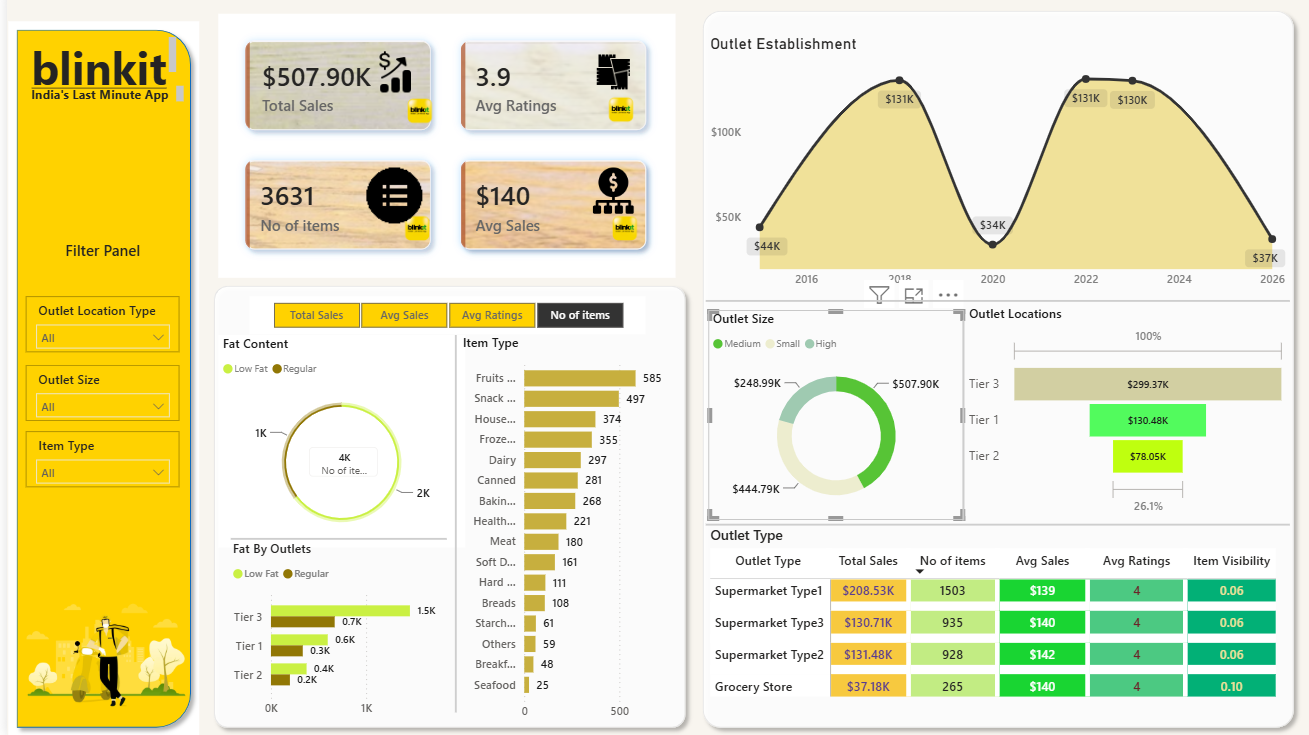

The page's visual inventory and layout, read from the dashboard file:
{"tool":"powerbi","page":{"name":"Page 1","canvas":[1400,800],"ordinal":0},"visuals":[{"type":"shape","box":[1.7,33.3,205,766.7],"z":0},{"type":"textbox","box":[21.7,45,165,65],"z":1000},{"type":"textbox","box":[21.7,98.3,173.3,30],"z":2000},{"type":"group","id":"g1","title":"Group 1","box":[226.7,25,490,283.3],"z":3000},{"type":"cardVisual","fields":{"Data":["BlinkIT Grocery Data.Total Sales","BlinkIT Grocery Data.Avg Ratings","BlinkIT Grocery Data.No of items","BlinkIT Grocery Data.Avg Sales"]},"box":[226.7,25,490,283.3],"z":3000,"group":"g1"},{"type":"image","box":[615.4,64.5,69,48],"z":4000},{"type":"image","box":[387.7,65.8,57.9,46.2],"z":6000,"group":"g1"},{"type":"image","box":[624.4,190.6,51,49.5],"z":6000},{"type":"image","box":[426.2,114.1,33,31.5],"z":7000},{"type":"image","box":[423.2,240.1,33,31.5],"z":8000},{"type":"image","box":[642.4,240.1,40.5,31.5],"z":9000},{"type":"image","box":[642.4,112.6,33,31.5],"z":10000},{"type":"shape","box":[213.3,308.3,523.3,491.7],"z":11000},{"type":"donutChart","title":" Fat Content","fields":{"Y":["BlinkIT Grocery Data.Total Sales"],"Category":["BlinkIT Grocery Data.Item Fat Content"]},"box":[226.7,370,265,228.3],"z":12000},{"type":"slicer","fields":{"Values":["Metrics.Metrics"]},"box":[259.6,328.7,424.7,40.5],"z":13000},{"type":"cardVisual","fields":{"Data":["BlinkIT Grocery Data.Total Sales"]},"box":[306.7,473.3,108.3,66.7],"z":14000},{"type":"clusteredBarChart","title":"Fat By Outlets","fields":{"Y":["BlinkIT Grocery Data.Total Sales"],"Category":["BlinkIT Grocery Data.Outlet Location Type"],"Series":["BlinkIT Grocery Data.Item Fat Content"]},"box":[236.7,590,235,198.3],"z":15000},{"type":"shape","box":[240,578.3,231.7,21.7],"z":16000},{"type":"shape","box":[463.3,370,35,405],"z":17000},{"type":"barChart","title":"Item Type","fields":{"Y":["BlinkIT Grocery Data.Total Sales"],"Category":["BlinkIT Grocery Data.Item Type"]},"box":[483.3,368.3,233.3,423.3],"z":18000},{"type":"shape","box":[736.7,13.3,651.7,786.7],"z":19000},{"type":"lineChart","title":"Outlet Establishment  ","fields":{"Y":["BlinkIT Grocery Data.Total Sales"],"Category":["BlinkIT Grocery Data.Outlet Establishment Year"]},"box":[750,46.7,626.7,281.7],"z":20000},{"type":"shape","box":[750,568.3,626.7,10],"z":21000},{"type":"donutChart","title":"Outlet Size","fields":{"Y":["BlinkIT Grocery Data.Total Sales"],"Category":["BlinkIT Grocery Data.Outlet Size"]},"box":[751.7,343.3,275,225],"z":22000},{"type":"shape","box":[1008.3,353.3,35,215],"z":23000},{"type":"funnel","title":"Outlet Locations","fields":{"Y":["BlinkIT Grocery Data.Total Sales"],"Category":["BlinkIT Grocery Data.Outlet Location Type"]},"box":[1026.7,338.3,350,230],"z":24000},{"type":"shape","box":[750,328.3,626.7,10],"z":25000},{"type":"pivotTable","title":"Outlet Type","fields":{"Rows":["BlinkIT Grocery Data.Outlet Type"],"Values":["BlinkIT Grocery Data.Total Sales","BlinkIT Grocery Data.No of items","BlinkIT Grocery Data.Avg Sales","BlinkIT Grocery Data.Avg Ratings","Avg(BlinkIT Grocery Data.Item Visibility)"]},"box":[750,573.3,626.7,208.3],"z":26000},{"type":"slicer","fields":{"Values":["BlinkIT Grocery Data.Outlet Location Type"]},"box":[20,328.3,165,60],"z":27000},{"type":"slicer","fields":{"Values":["BlinkIT Grocery Data.Outlet Size"]},"box":[20,401.7,165,60],"z":28000},{"type":"slicer","fields":{"Values":["BlinkIT Grocery Data.Item Type"]},"box":[20,473.3,165,60],"z":29000},{"type":"textbox","box":[20,263.3,165,45],"z":30000},{"type":"image","box":[265,190,300,60],"z":31000},{"type":"image","box":[20,646.7,175,135],"z":32001}]}

Visuals, with their boxes in screenshot pixels (x1, y1, x2, y2), scaled from the page's 1400x800 canvas onto the 1309x735 screenshot:
shape: region(2, 31, 193, 734)
textbox: region(20, 41, 175, 101)
textbox: region(20, 90, 182, 118)
"Group 1" group: region(212, 23, 670, 283)
cardVisual - BlinkIT Grocery Data.Total Sales x BlinkIT Grocery Data.Avg Ratings: region(212, 23, 670, 283)
image: region(575, 59, 640, 103)
image: region(362, 60, 417, 103)
image: region(584, 175, 631, 221)
image: region(398, 105, 429, 134)
image: region(396, 221, 427, 250)
image: region(601, 221, 639, 250)
image: region(601, 103, 631, 132)
shape: region(199, 283, 689, 734)
" Fat Content" donutChart: region(212, 340, 460, 550)
slicer - Metrics.Metrics: region(243, 302, 640, 339)
cardVisual - BlinkIT Grocery Data.Total Sales: region(287, 435, 388, 496)
"Fat By Outlets" clusteredBarChart: region(221, 542, 441, 724)
shape: region(224, 531, 441, 551)
shape: region(433, 340, 466, 712)
"Item Type" barChart: region(452, 338, 670, 727)
shape: region(689, 12, 1298, 734)
"Outlet Establishment  " lineChart: region(701, 43, 1287, 302)
shape: region(701, 522, 1287, 531)
"Outlet Size" donutChart: region(703, 315, 960, 522)
shape: region(943, 325, 975, 522)
"Outlet Locations" funnel: region(960, 311, 1287, 522)
shape: region(701, 302, 1287, 311)
"Outlet Type" pivotTable: region(701, 527, 1287, 718)
slicer - BlinkIT Grocery Data.Outlet Location Type: region(19, 302, 173, 357)
slicer - BlinkIT Grocery Data.Outlet Size: region(19, 369, 173, 424)
slicer - BlinkIT Grocery Data.Item Type: region(19, 435, 173, 490)
textbox: region(19, 242, 173, 283)
image: region(248, 175, 528, 230)
image: region(19, 594, 182, 718)
